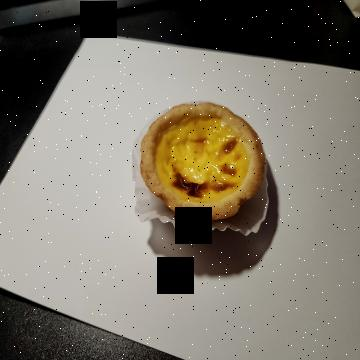EggTart: (139, 102, 264, 221)
